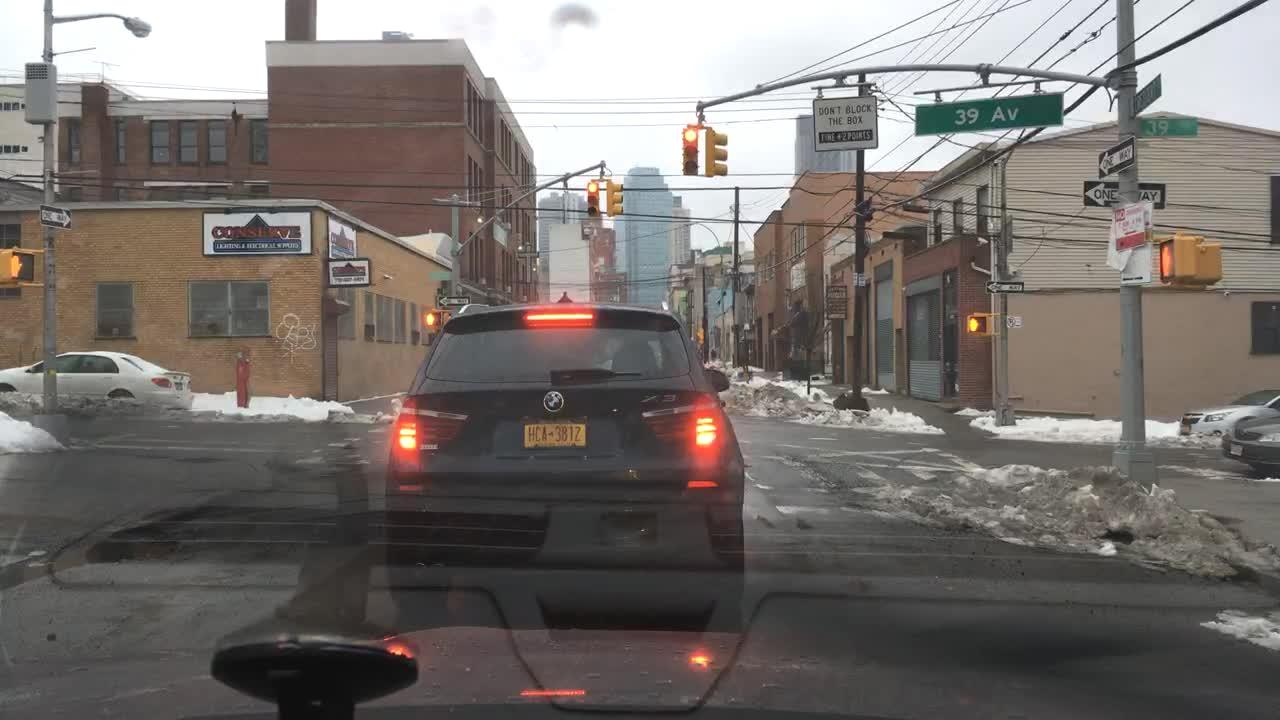bmw: (541, 388, 565, 416)
